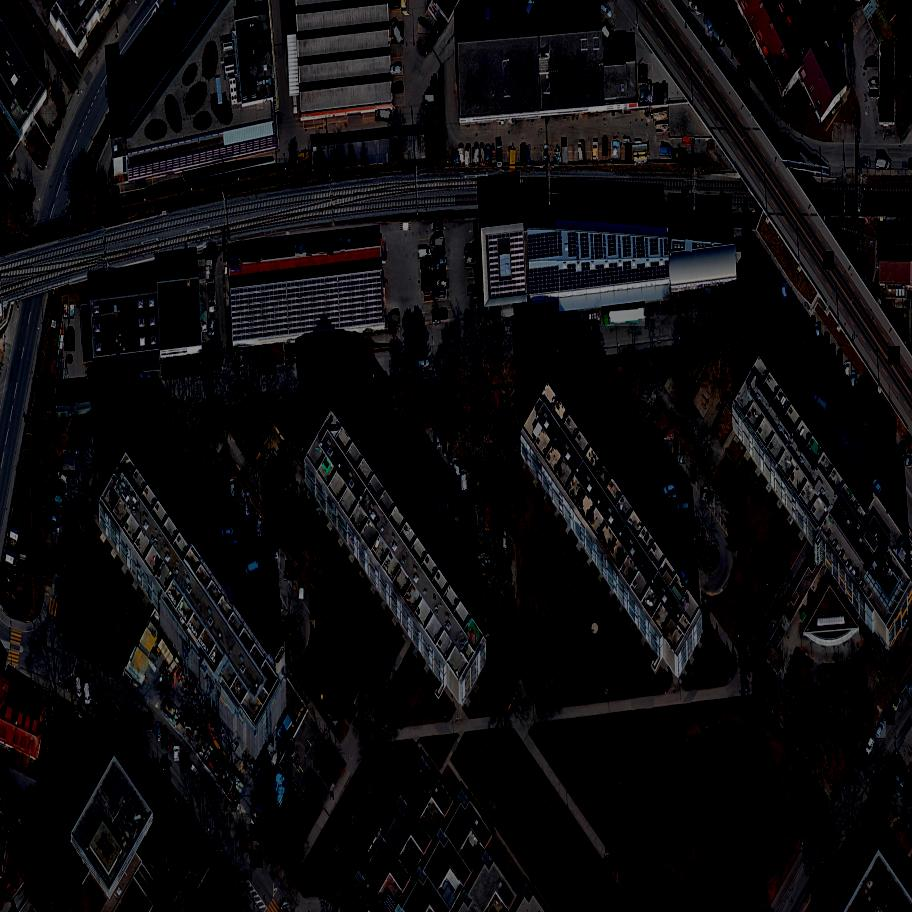large-vehicle: (603, 307, 647, 327), (810, 395, 831, 414), (237, 836, 255, 853), (391, 22, 404, 45), (601, 26, 616, 45), (56, 395, 77, 408), (64, 331, 77, 352), (523, 0, 535, 22), (223, 584, 236, 604), (556, 8, 566, 34), (100, 367, 117, 382), (484, 501, 493, 529), (875, 158, 892, 172), (246, 562, 263, 576), (712, 32, 726, 48), (485, 7, 495, 28), (51, 494, 66, 507), (705, 18, 715, 36), (453, 457, 462, 477), (478, 147, 488, 164), (84, 683, 92, 704), (76, 677, 84, 698), (460, 469, 468, 490), (376, 110, 391, 121), (229, 480, 238, 498), (473, 148, 482, 166), (612, 141, 621, 159), (625, 142, 632, 165), (255, 515, 263, 535), (201, 312, 209, 332), (457, 148, 466, 165), (696, 290, 704, 309), (422, 121, 437, 131), (162, 728, 169, 748), (430, 238, 445, 246), (402, 0, 410, 14), (418, 250, 431, 258), (431, 221, 442, 230), (682, 136, 694, 144), (465, 148, 470, 167), (593, 142, 598, 160), (424, 95, 435, 103), (579, 143, 584, 160), (388, 316, 399, 323), (661, 148, 672, 155)
small-vehicle: (61, 450, 79, 470), (599, 1, 617, 19), (247, 851, 266, 868), (839, 22, 856, 41), (416, 17, 434, 34), (799, 380, 817, 397), (893, 772, 910, 790), (854, 753, 871, 771), (837, 428, 852, 448), (846, 446, 863, 463), (881, 708, 898, 725), (888, 782, 906, 798), (865, 735, 878, 757), (886, 347, 901, 366), (418, 511, 433, 529), (736, 65, 751, 83), (891, 693, 905, 712), (846, 769, 862, 785), (680, 567, 693, 586), (247, 825, 262, 841), (56, 472, 72, 487), (885, 496, 898, 514), (822, 252, 835, 270), (876, 721, 889, 739), (213, 831, 224, 852), (652, 83, 663, 104), (245, 250, 261, 264), (872, 480, 886, 496), (638, 64, 649, 84), (470, 486, 481, 506), (700, 486, 712, 504), (228, 536, 243, 550), (181, 752, 191, 773), (834, 33, 845, 52), (54, 483, 70, 496), (663, 485, 679, 498), (433, 427, 443, 447), (210, 509, 225, 522), (295, 241, 308, 256), (688, 0, 703, 13), (303, 241, 315, 257), (208, 318, 218, 337), (884, 421, 894, 440), (639, 85, 649, 104), (285, 561, 294, 582), (229, 255, 243, 268), (433, 258, 447, 271), (335, 237, 345, 255), (774, 284, 783, 304), (657, 477, 672, 489), (672, 440, 681, 459), (870, 400, 880, 417), (856, 381, 866, 398), (67, 445, 81, 457), (693, 531, 707, 543), (238, 348, 247, 366), (877, 410, 886, 428), (678, 448, 687, 466), (236, 486, 244, 506), (436, 279, 449, 291), (390, 65, 404, 76), (318, 241, 329, 255), (808, 316, 817, 333), (146, 712, 154, 731), (646, 85, 654, 104), (437, 503, 452, 513), (676, 503, 691, 513), (431, 76, 439, 94), (253, 573, 266, 584), (435, 289, 448, 300), (421, 271, 434, 282), (235, 547, 249, 557), (174, 745, 182, 762), (452, 149, 460, 166), (485, 145, 492, 164), (465, 257, 478, 267), (858, 159, 871, 169), (661, 430, 674, 440), (709, 493, 717, 509), (899, 442, 906, 460), (218, 520, 230, 530), (289, 158, 301, 168), (422, 281, 434, 291), (662, 83, 668, 103), (689, 522, 701, 532), (691, 464, 698, 481), (222, 529, 235, 538), (480, 559, 493, 568), (327, 239, 334, 255), (845, 362, 852, 378), (543, 145, 550, 161), (838, 351, 844, 369), (640, 452, 652, 461), (727, 516, 734, 531), (865, 59, 878, 67), (156, 723, 162, 740), (824, 333, 830, 350), (392, 85, 403, 94), (299, 152, 310, 161), (205, 503, 216, 512), (468, 287, 479, 296), (670, 496, 681, 505), (527, 146, 533, 162), (434, 270, 446, 278), (504, 532, 509, 551), (465, 247, 475, 255), (421, 475, 431, 483), (418, 361, 429, 368), (603, 137, 607, 156), (851, 373, 856, 388), (782, 284, 787, 299), (816, 323, 821, 338), (49, 523, 57, 532), (520, 144, 524, 162), (442, 436, 446, 454), (434, 249, 443, 257), (420, 262, 430, 269), (868, 81, 878, 88), (170, 736, 174, 753), (830, 344, 834, 361), (893, 430, 897, 447), (869, 91, 879, 97), (50, 515, 58, 522), (906, 452, 910, 466), (437, 312, 445, 318)
